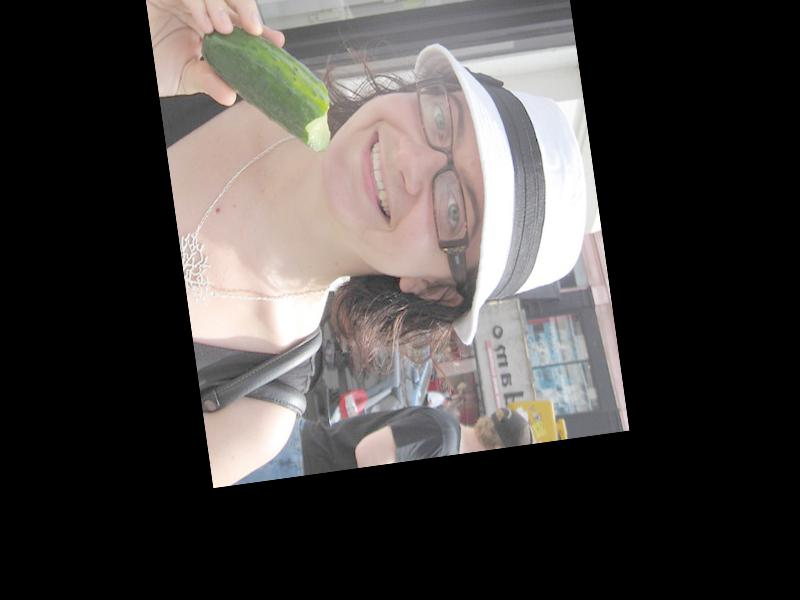Cucumber: (198, 12, 335, 163)
